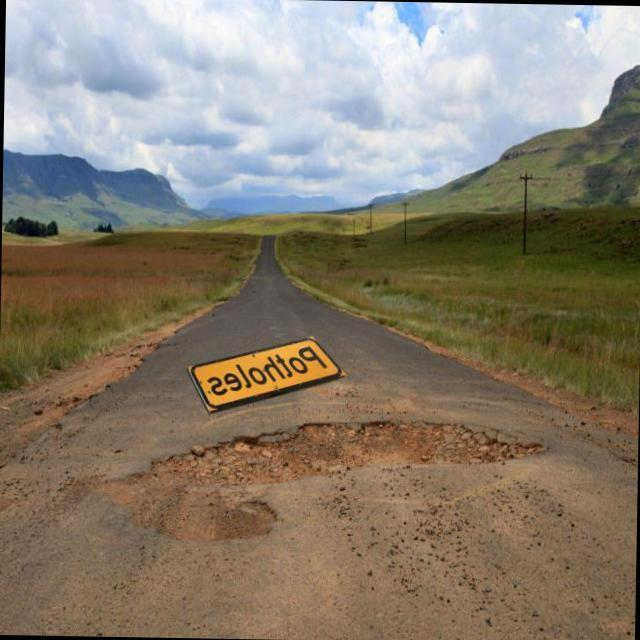Pothole: (92, 416, 535, 541)
